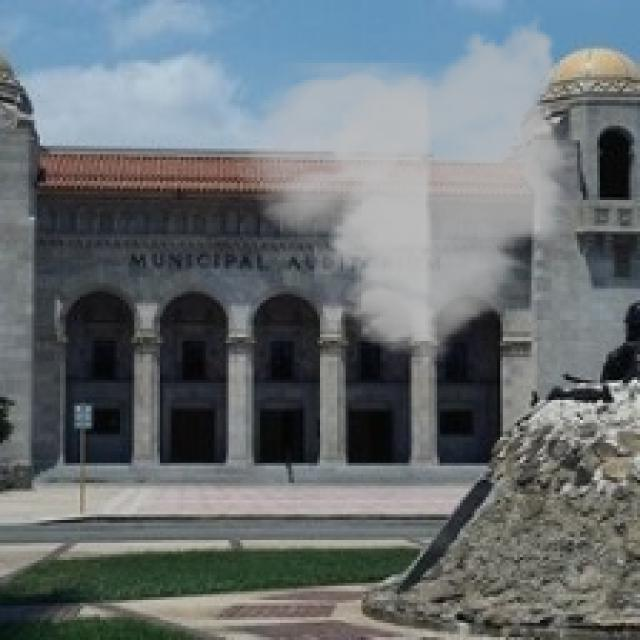smoke: (234, 6, 580, 374)
